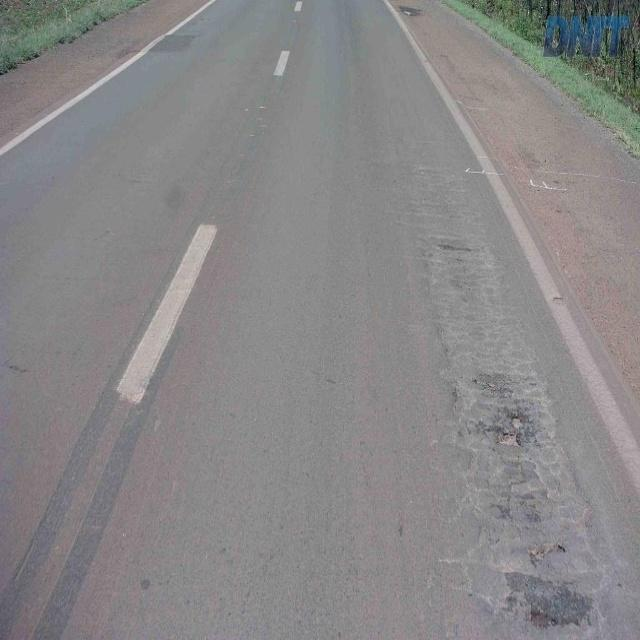pothole: (492, 401, 536, 454), (534, 529, 572, 564), (526, 600, 556, 628)
